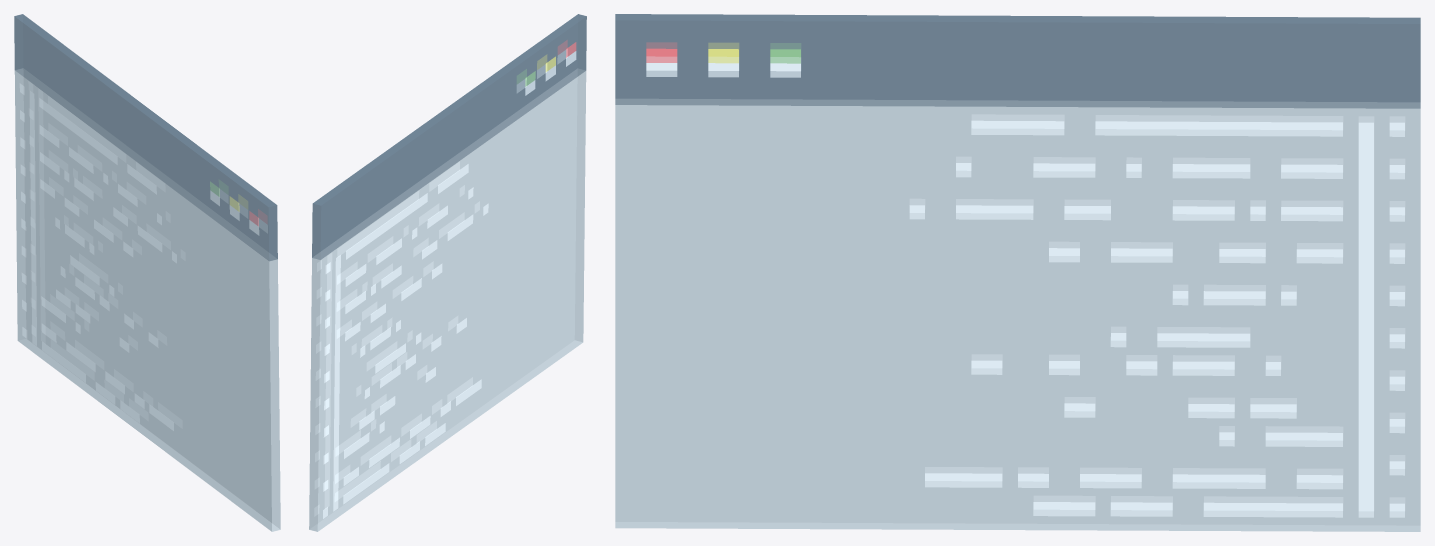
The model's file is window-transformed.glb.
3 renders of one model, left to right at view 1: azimuth 30°, elevation 25°; view 2: azimuth 150°, elevation 25°; view 3: azimuth 270°, elevation 25°, orthographic. The views are drawn at different scales.
Visible parts, largest first — view 1: window; view 2: window; view 3: window.
Part boxes in pixels (x1,y1,x2,y2): window: (14, 14, 280, 531); window: (309, 14, 586, 531); window: (615, 14, 1420, 531).
Size of the model in its own units: 0.1977 by 3.6 by 5.2.
1 material, 1 textured.
